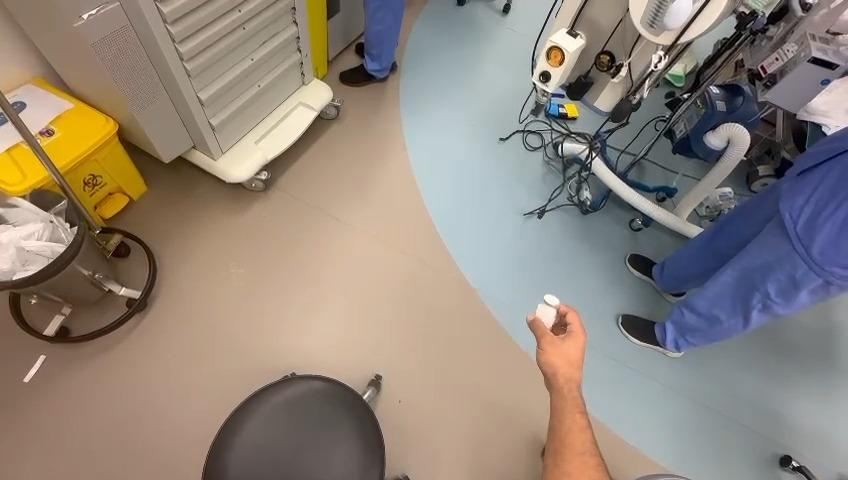augmentin: (535, 295, 560, 329)
